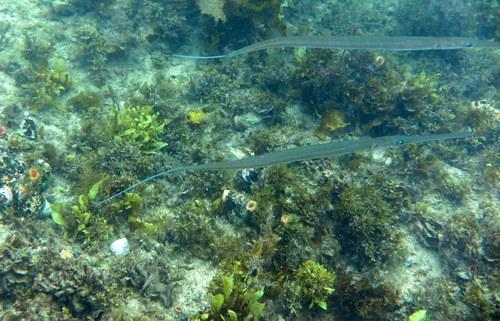Fistularia commersonii: (92, 103, 487, 204), (129, 11, 500, 74)
